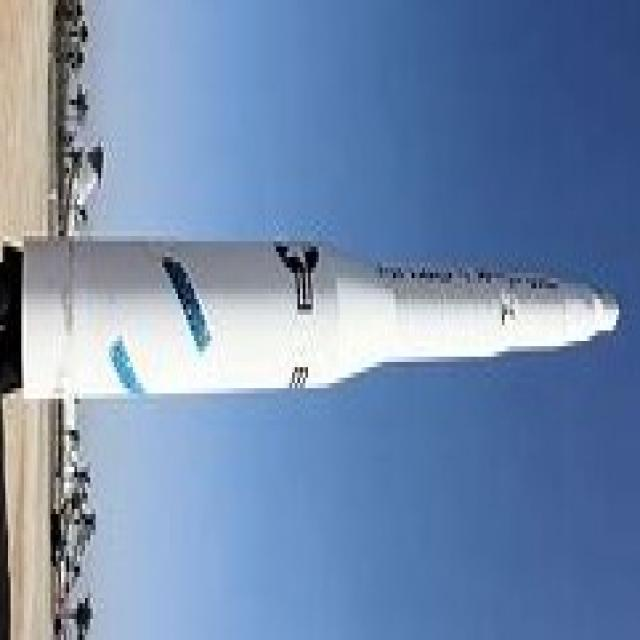missile: (15, 228, 622, 394)
